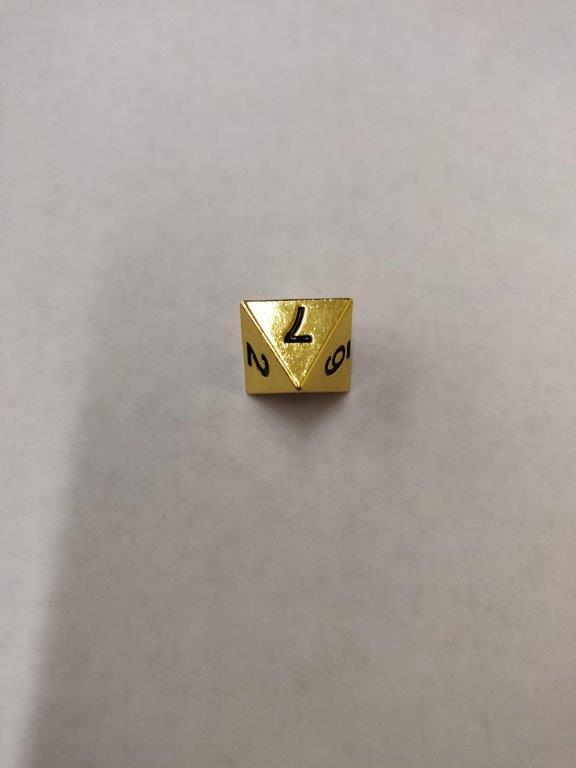d8-7: (242, 296, 353, 397)
